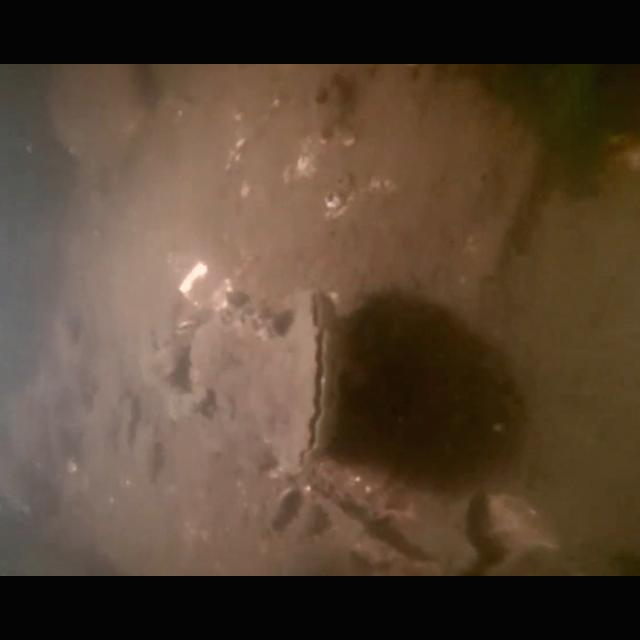Oyster-Open: (248, 286, 346, 478), (189, 304, 283, 456)
